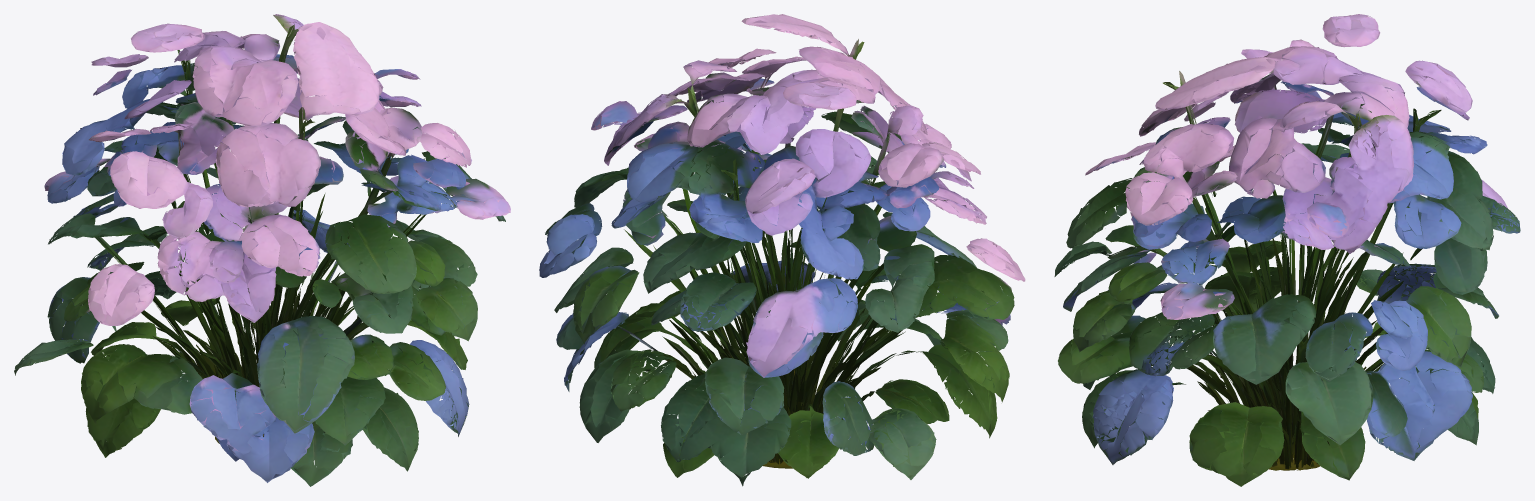
Rendered from hydrangea.glb.
3 renders of one model, left to right at view 1: azimuth 30°, elevation 25°; view 2: azimuth 150°, elevation 25°; view 3: azimuth 270°, elevation 25°, orthographic.
Parts seen in each view (by area): view 1: node_0; view 2: node_0; view 3: node_0.
Part boxes in pixels (x1=…): node_0: x1=14, y1=14, x2=510, y2=486; node_0: x1=539, y1=14, x2=1025, y2=486; node_0: x1=1054, y1=14, x2=1520, y2=486.
Size of the model in its own units: 0.99 by 0.9062 by 0.9361.
Materials: 1 (1 with a texture image).
